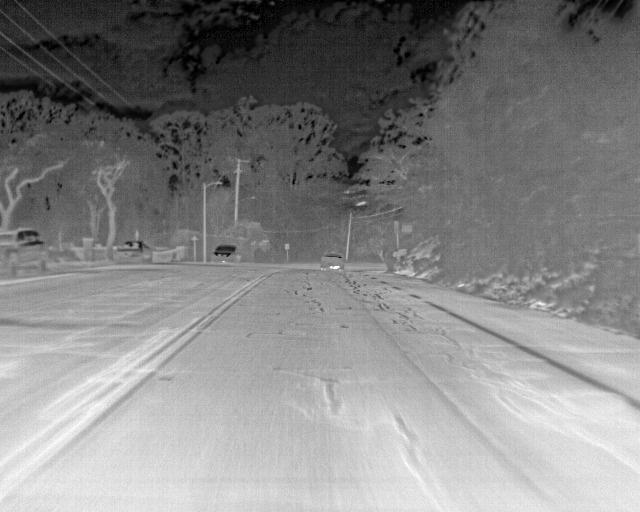car: (0, 228, 49, 281), (112, 240, 152, 265), (320, 250, 342, 271), (214, 245, 236, 263)
